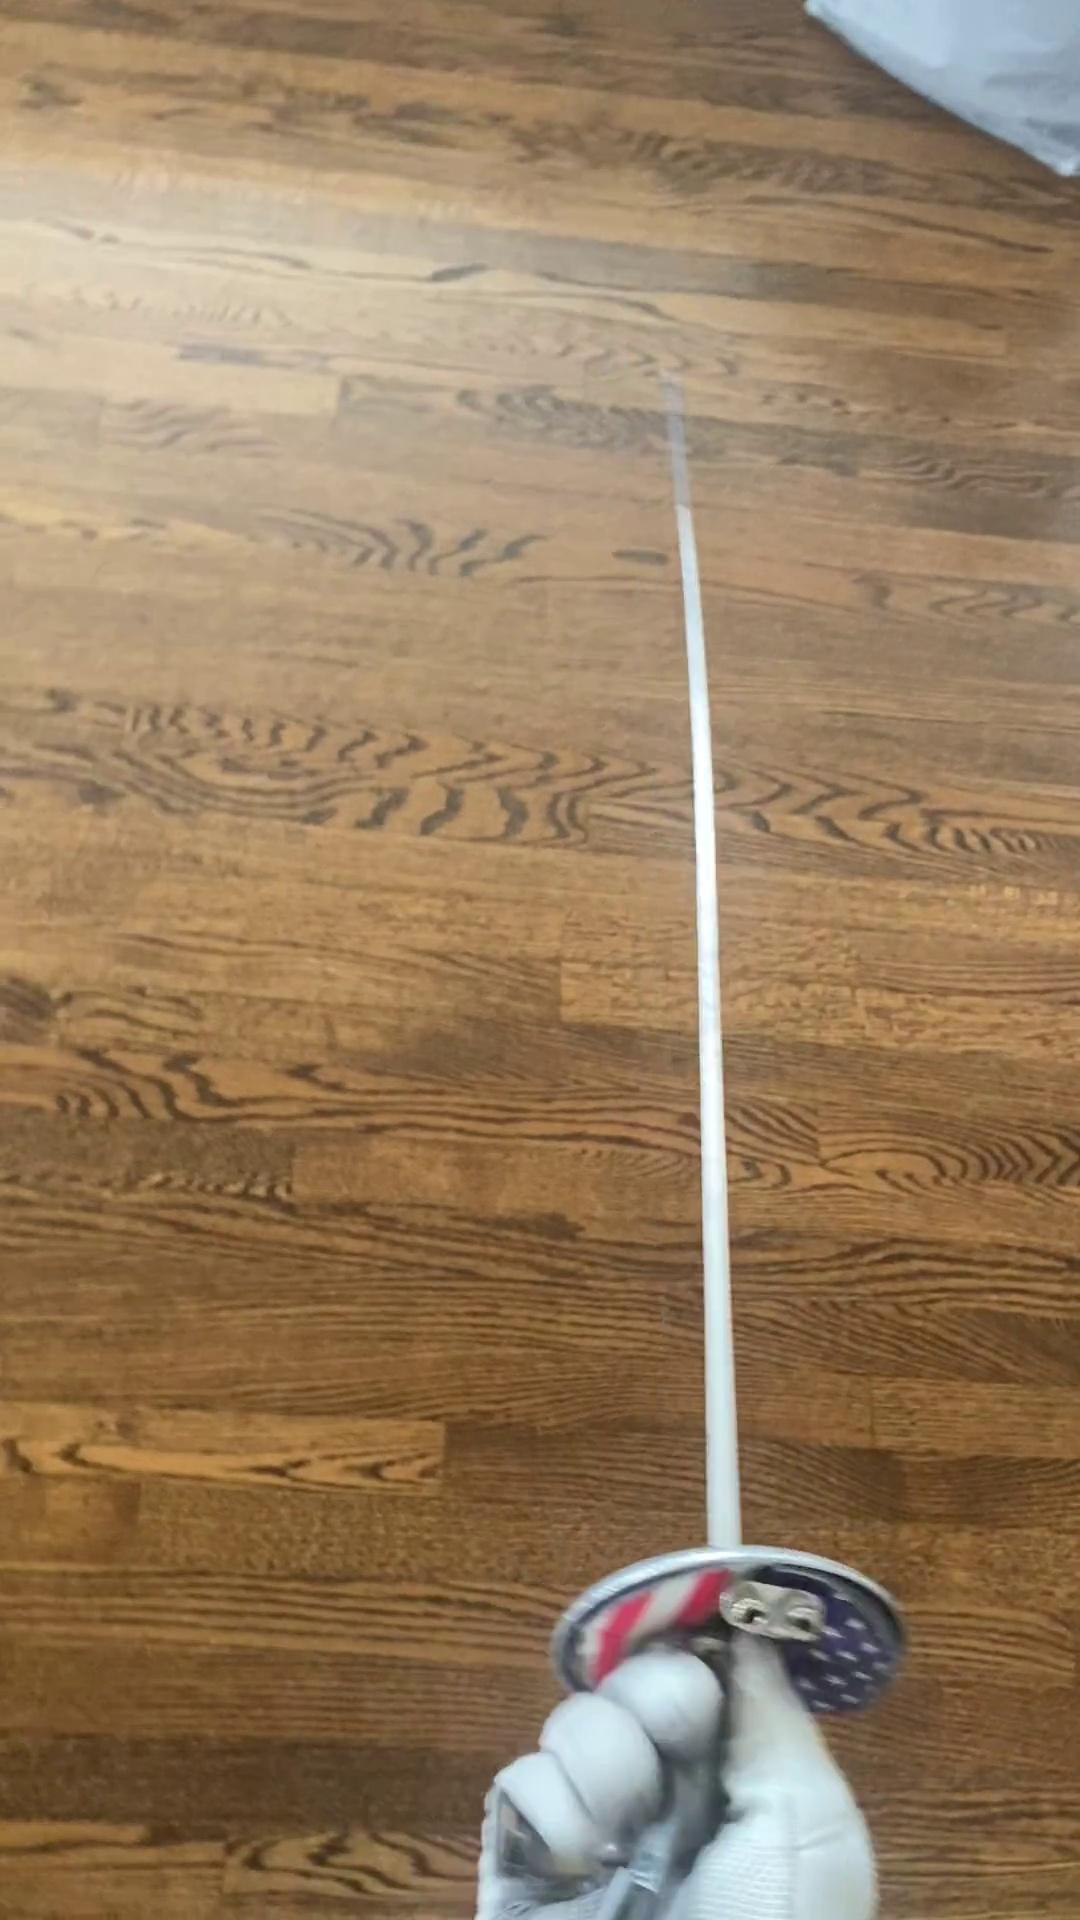blade-guard: (532, 1528, 934, 1760)
blade-tip: (606, 291, 738, 583)
fencing-blade: (546, 286, 921, 1914)
